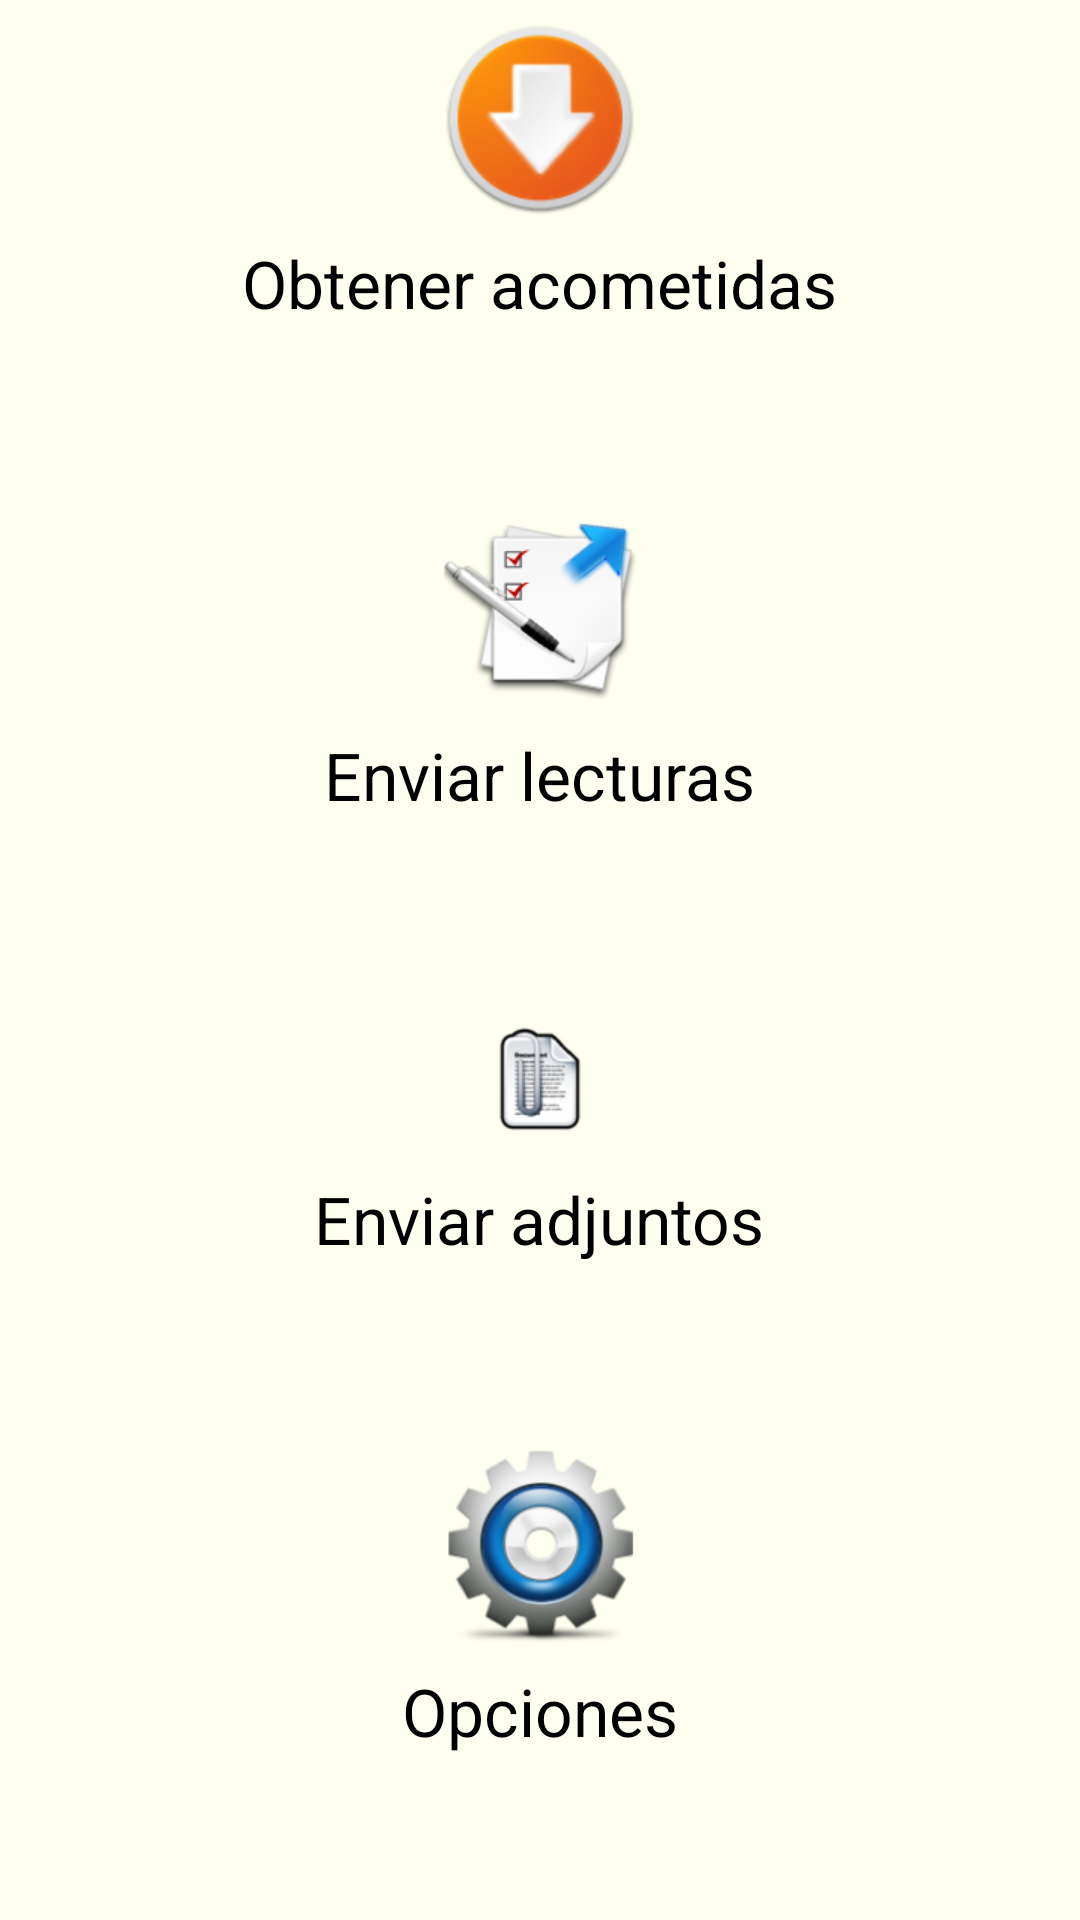

Icon bounding boxes for this 1080w x 1920h phone screenshot, format (x1, y1, x2, y2):
attach: (499, 1028, 581, 1130)
receive reading: (447, 29, 633, 213)
